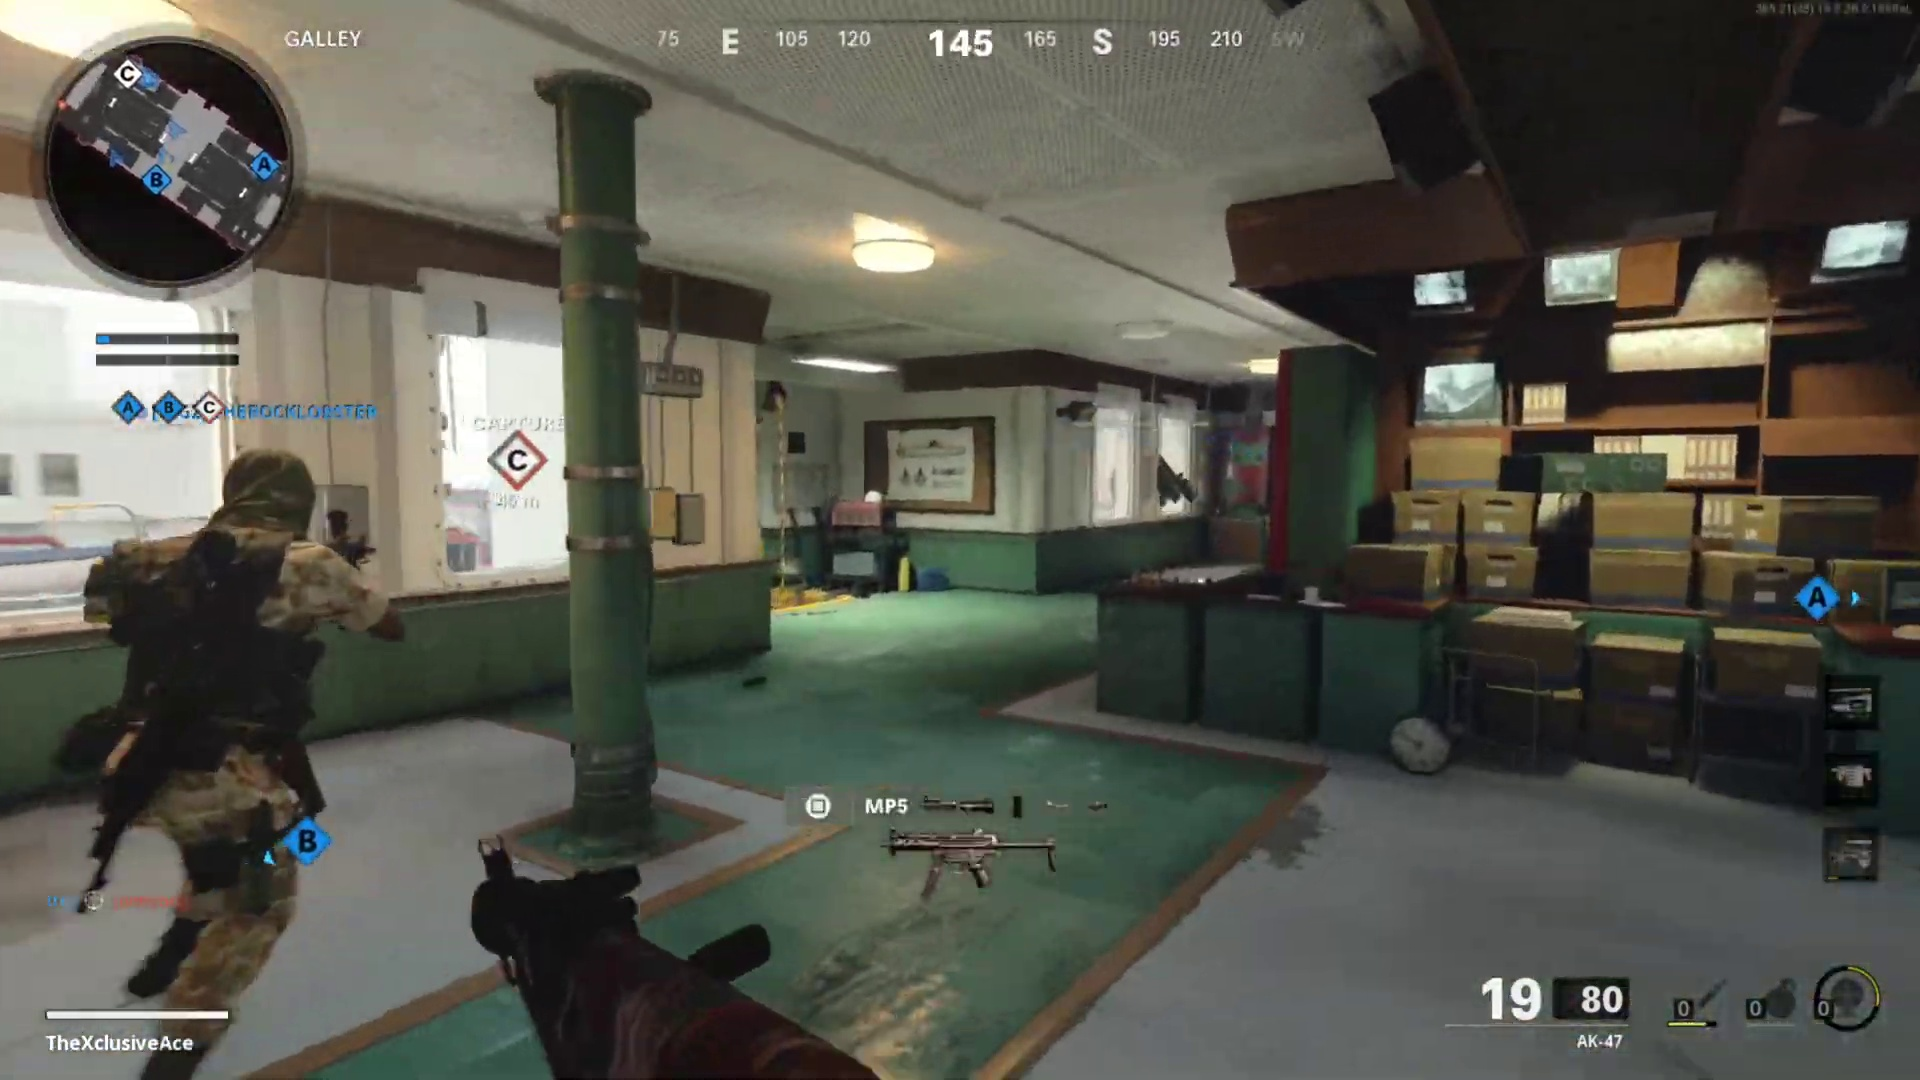head: (208, 445, 318, 544)
person: (66, 435, 397, 1010)
